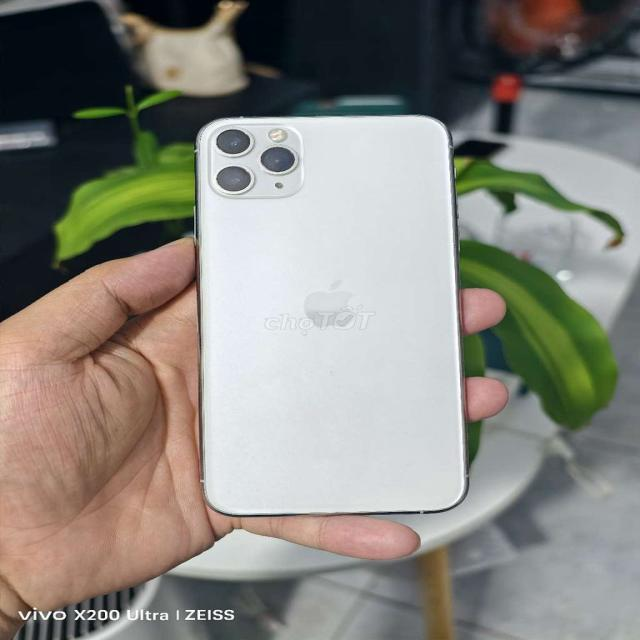gen_11: (189, 105, 478, 528)
